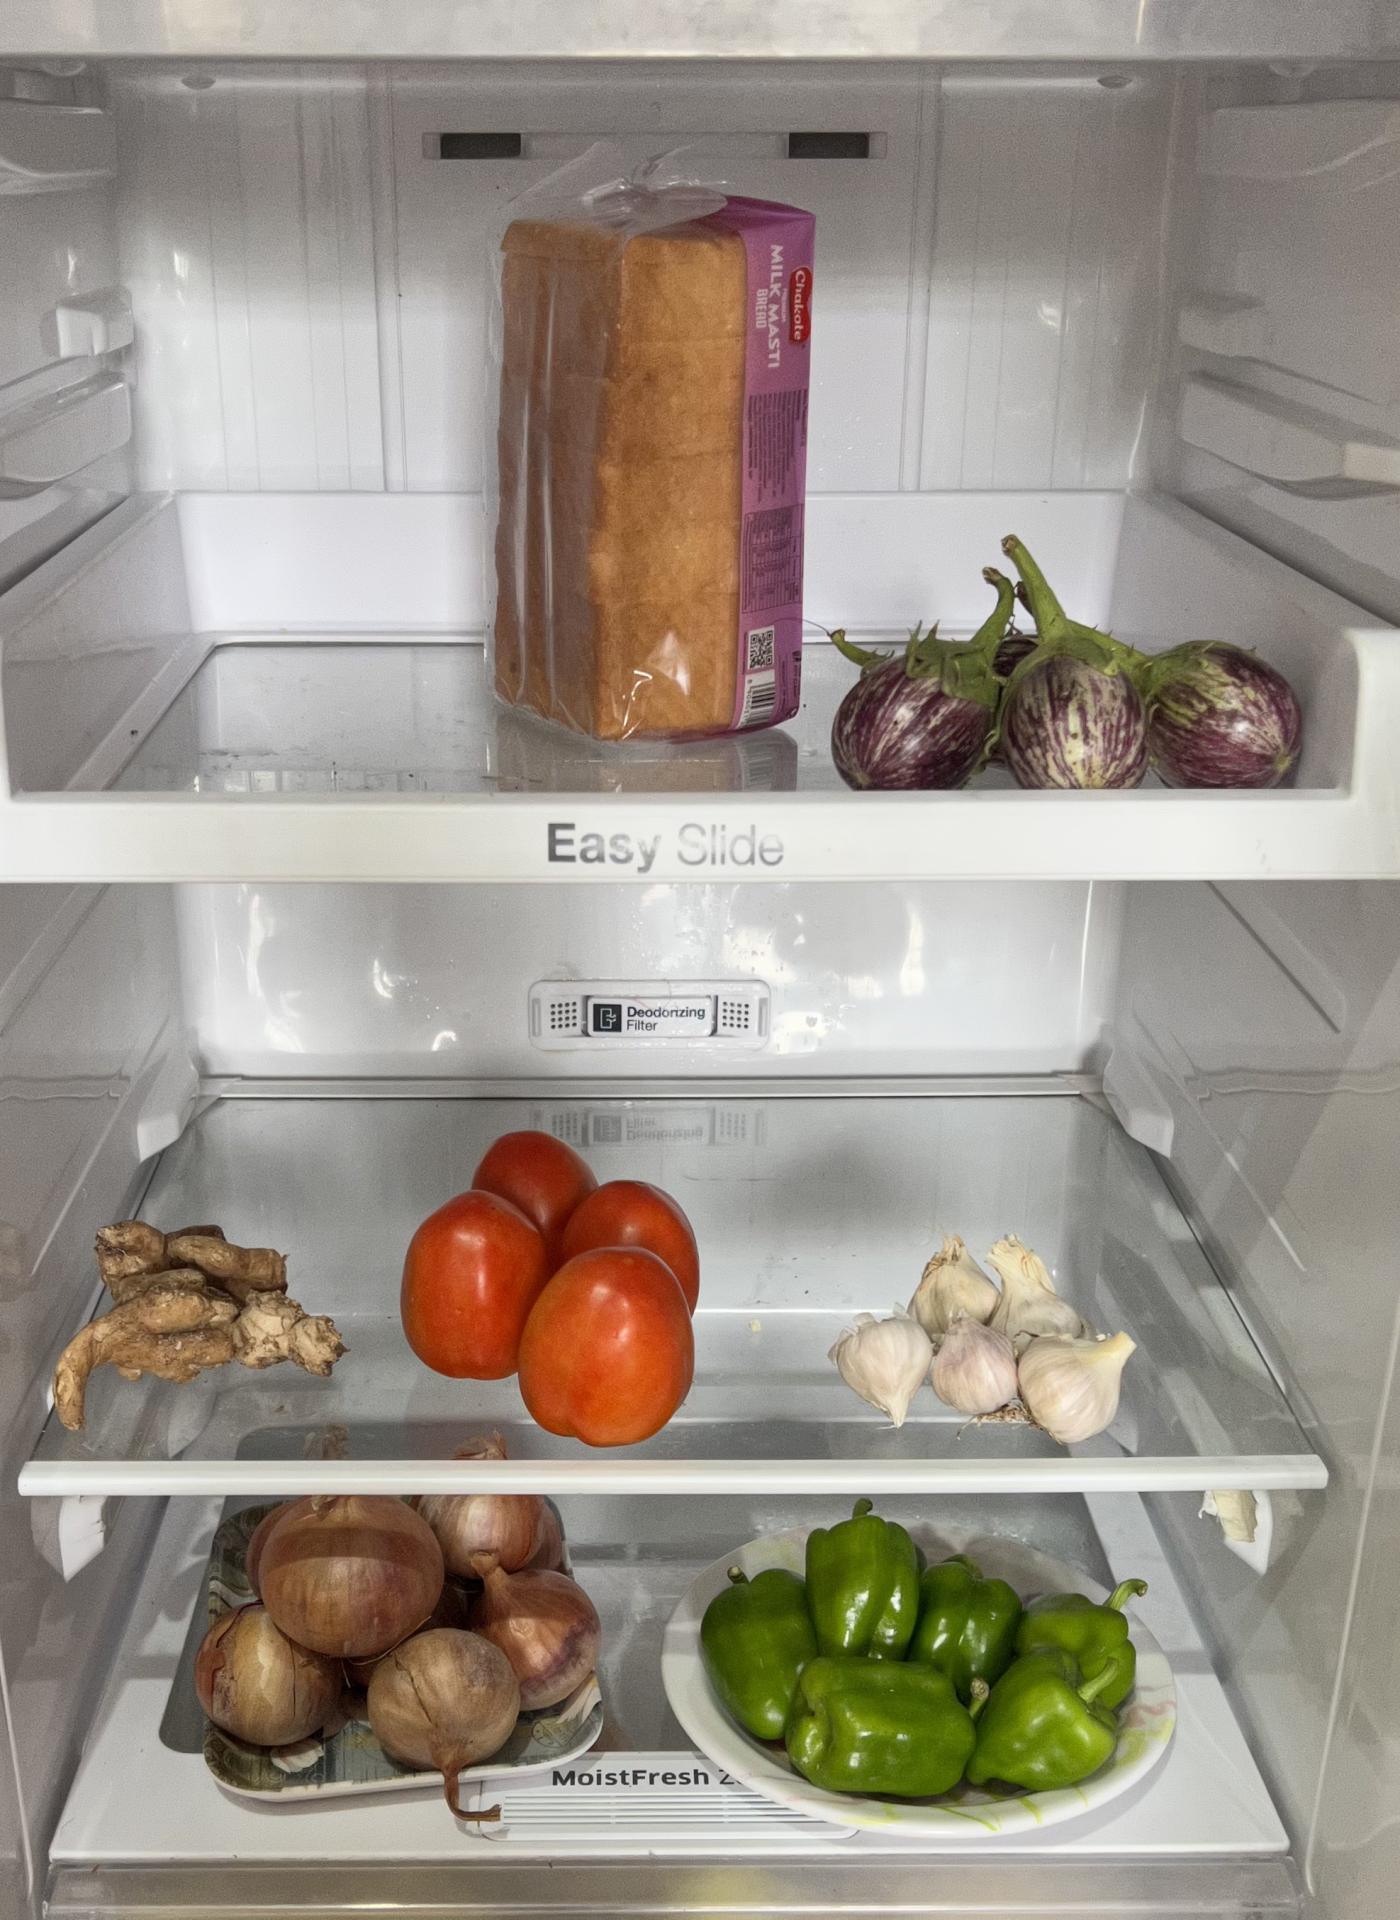bread: (483, 174, 816, 748)
capsicum: (692, 1512, 1136, 1798)
garlic: (826, 1233, 1127, 1450)
ginger: (52, 1218, 337, 1421)
onion: (191, 1498, 601, 1763)
tomato: (404, 1125, 698, 1439)
